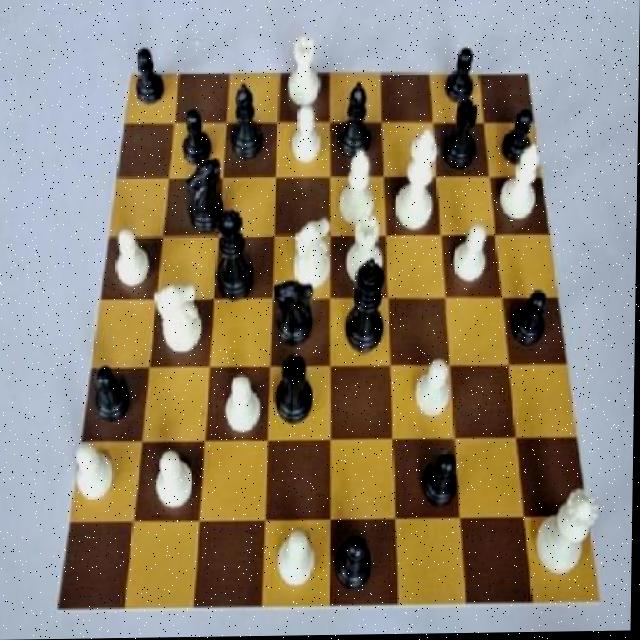bishop: (333, 79, 384, 170), (229, 81, 267, 171)
black-bishop: (339, 255, 398, 365)
black-king: (182, 154, 230, 246), (272, 276, 317, 359)
black-knight: (86, 357, 136, 431), (337, 522, 382, 600), (509, 288, 554, 362), (492, 108, 540, 174), (416, 450, 461, 516), (439, 47, 481, 113), (182, 105, 217, 175), (132, 41, 166, 108)
black-pawn: (215, 205, 262, 304)
black-queen: (270, 353, 317, 435), (442, 98, 487, 180)
black-rook: (494, 144, 544, 229), (337, 153, 383, 232)
white-bishop: (395, 125, 445, 237)
white-king: (153, 276, 206, 369), (288, 213, 338, 298)
white-knight: (66, 445, 118, 511), (152, 448, 199, 520), (277, 529, 321, 599), (109, 230, 154, 298), (451, 225, 493, 292), (286, 104, 325, 174), (226, 374, 265, 443), (414, 358, 454, 425)
white-pawn: (532, 488, 600, 595)
white-queen: (280, 36, 329, 117), (342, 211, 385, 303)
